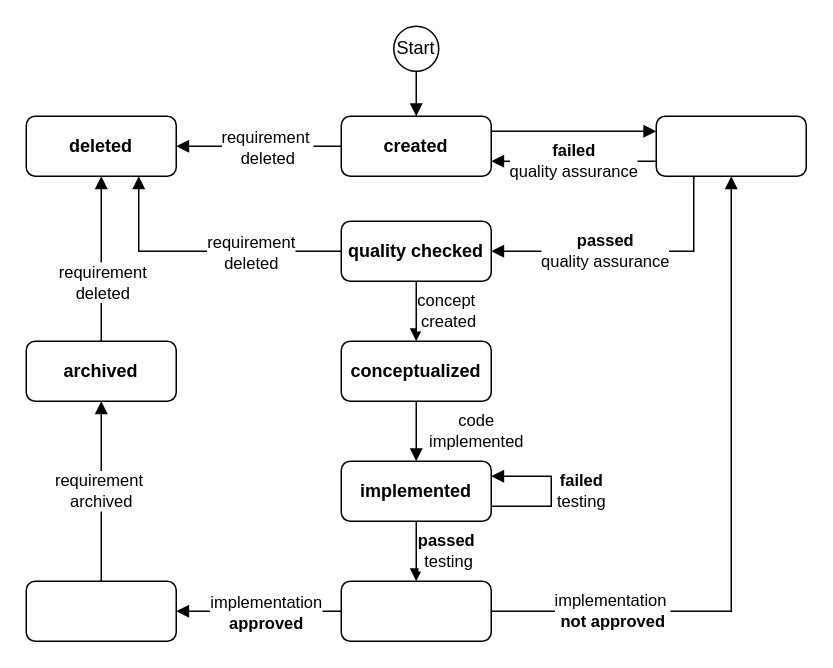
Some shapes in this 833 by 668 pixel diagram are drawn without their labels. The centre of each missing label's shape, as x and y in pixels:
"analyzed" goes at [730,145].
"approved" goes at [100,610].
"tested" goes at [415,610].
